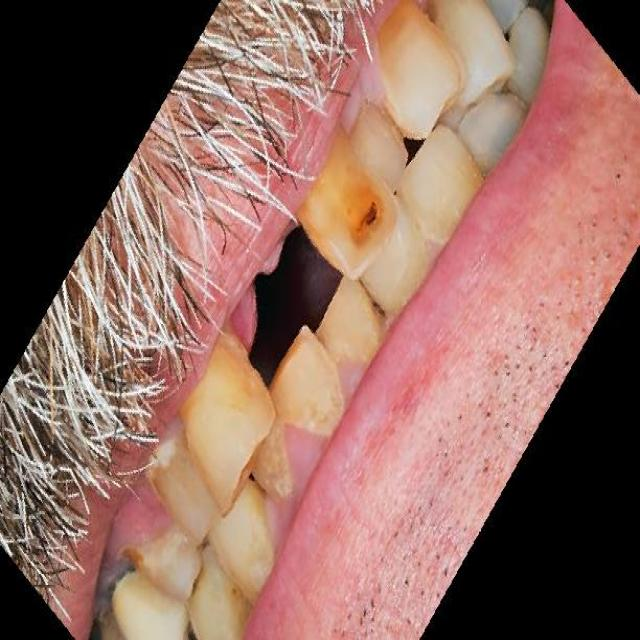caries: (342, 178, 396, 260), (119, 529, 150, 588)
